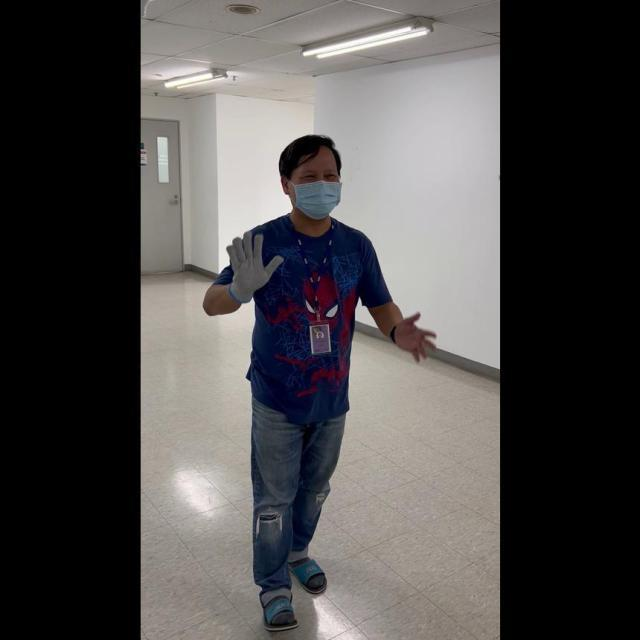bare_hand: (389, 307, 437, 363)
gloved_hand: (221, 229, 281, 300)
